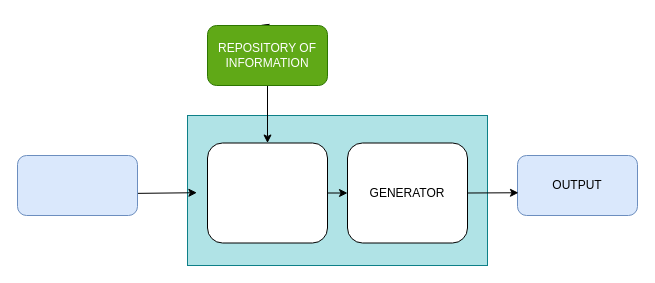
Some shapes in this 655 by 283 pixel diagram are drawn without their labels. Here are the shapes that lost their labels. From the top down, the centre of each, then its label:
pixel 77 185: USER QUERY
pixel 267 192: RETRIEVER
